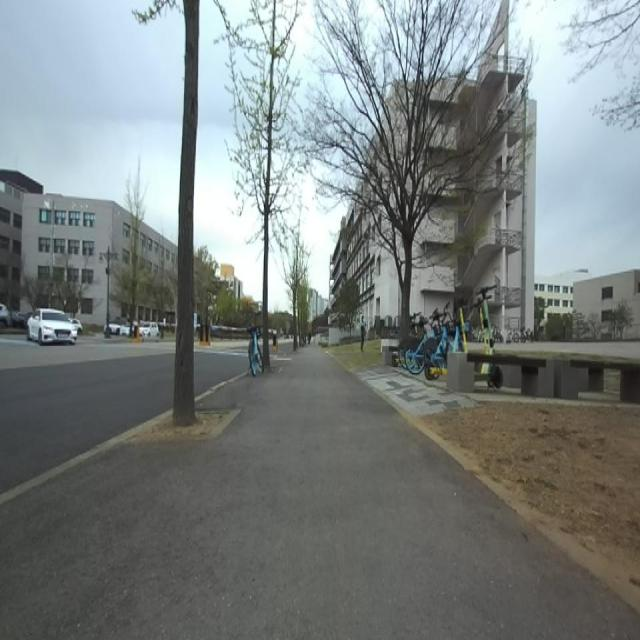sidewalk: (0, 348, 640, 639), (0, 411, 172, 504), (195, 372, 246, 401)
